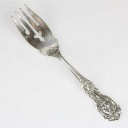fork: (8, 2, 127, 128)
